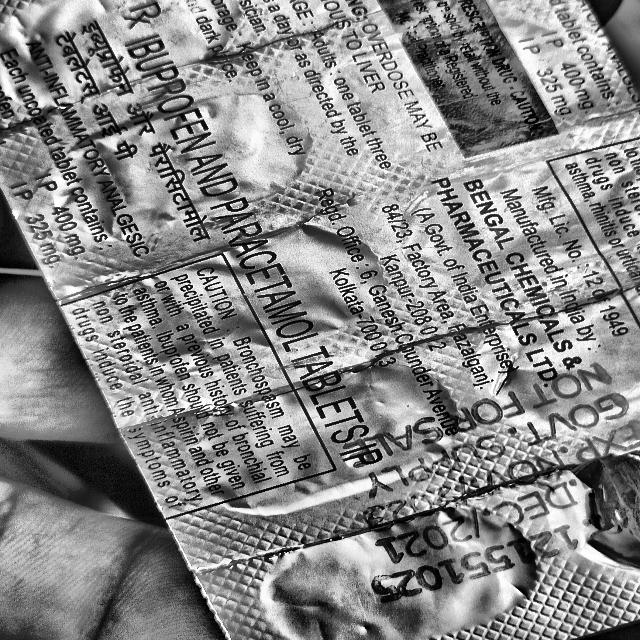IBUPROFEN AND PARACETAMOL TABLETS: (109, 17, 413, 499)
